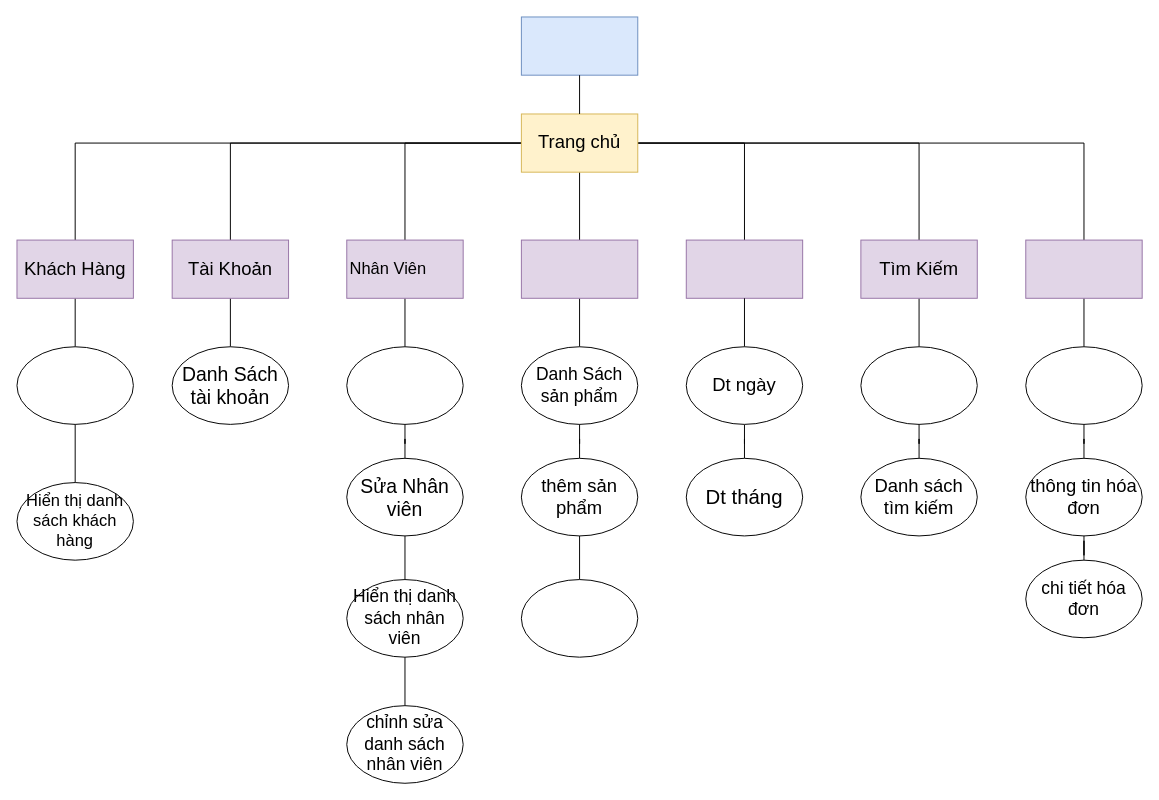
This 1159x800 diagram has some shape labels left out. Here are the shapes that lost their labels. From the top down, the centre of each, then its label:
At (579,45): "Đăng nhập".
At (579,268): "Sản Phẩm".
At (744,268): "Thống Kê".
At (1083,268): "Hóa Đơn".
At (74,385): "Tìm Kiếm khách hàng".
At (404,385): "Thêm nhân viên".
At (918,385): "Tạo mục tìm kiếm".
At (1083,385): "ngày tạo hóa đơn".
At (579,618): "thuộc tính sản phẩm".
